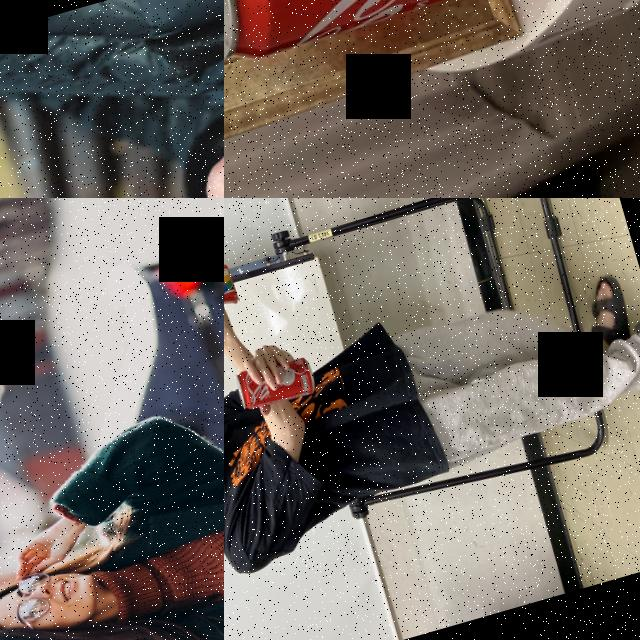can: (224, 0, 606, 74), (232, 350, 320, 416)
